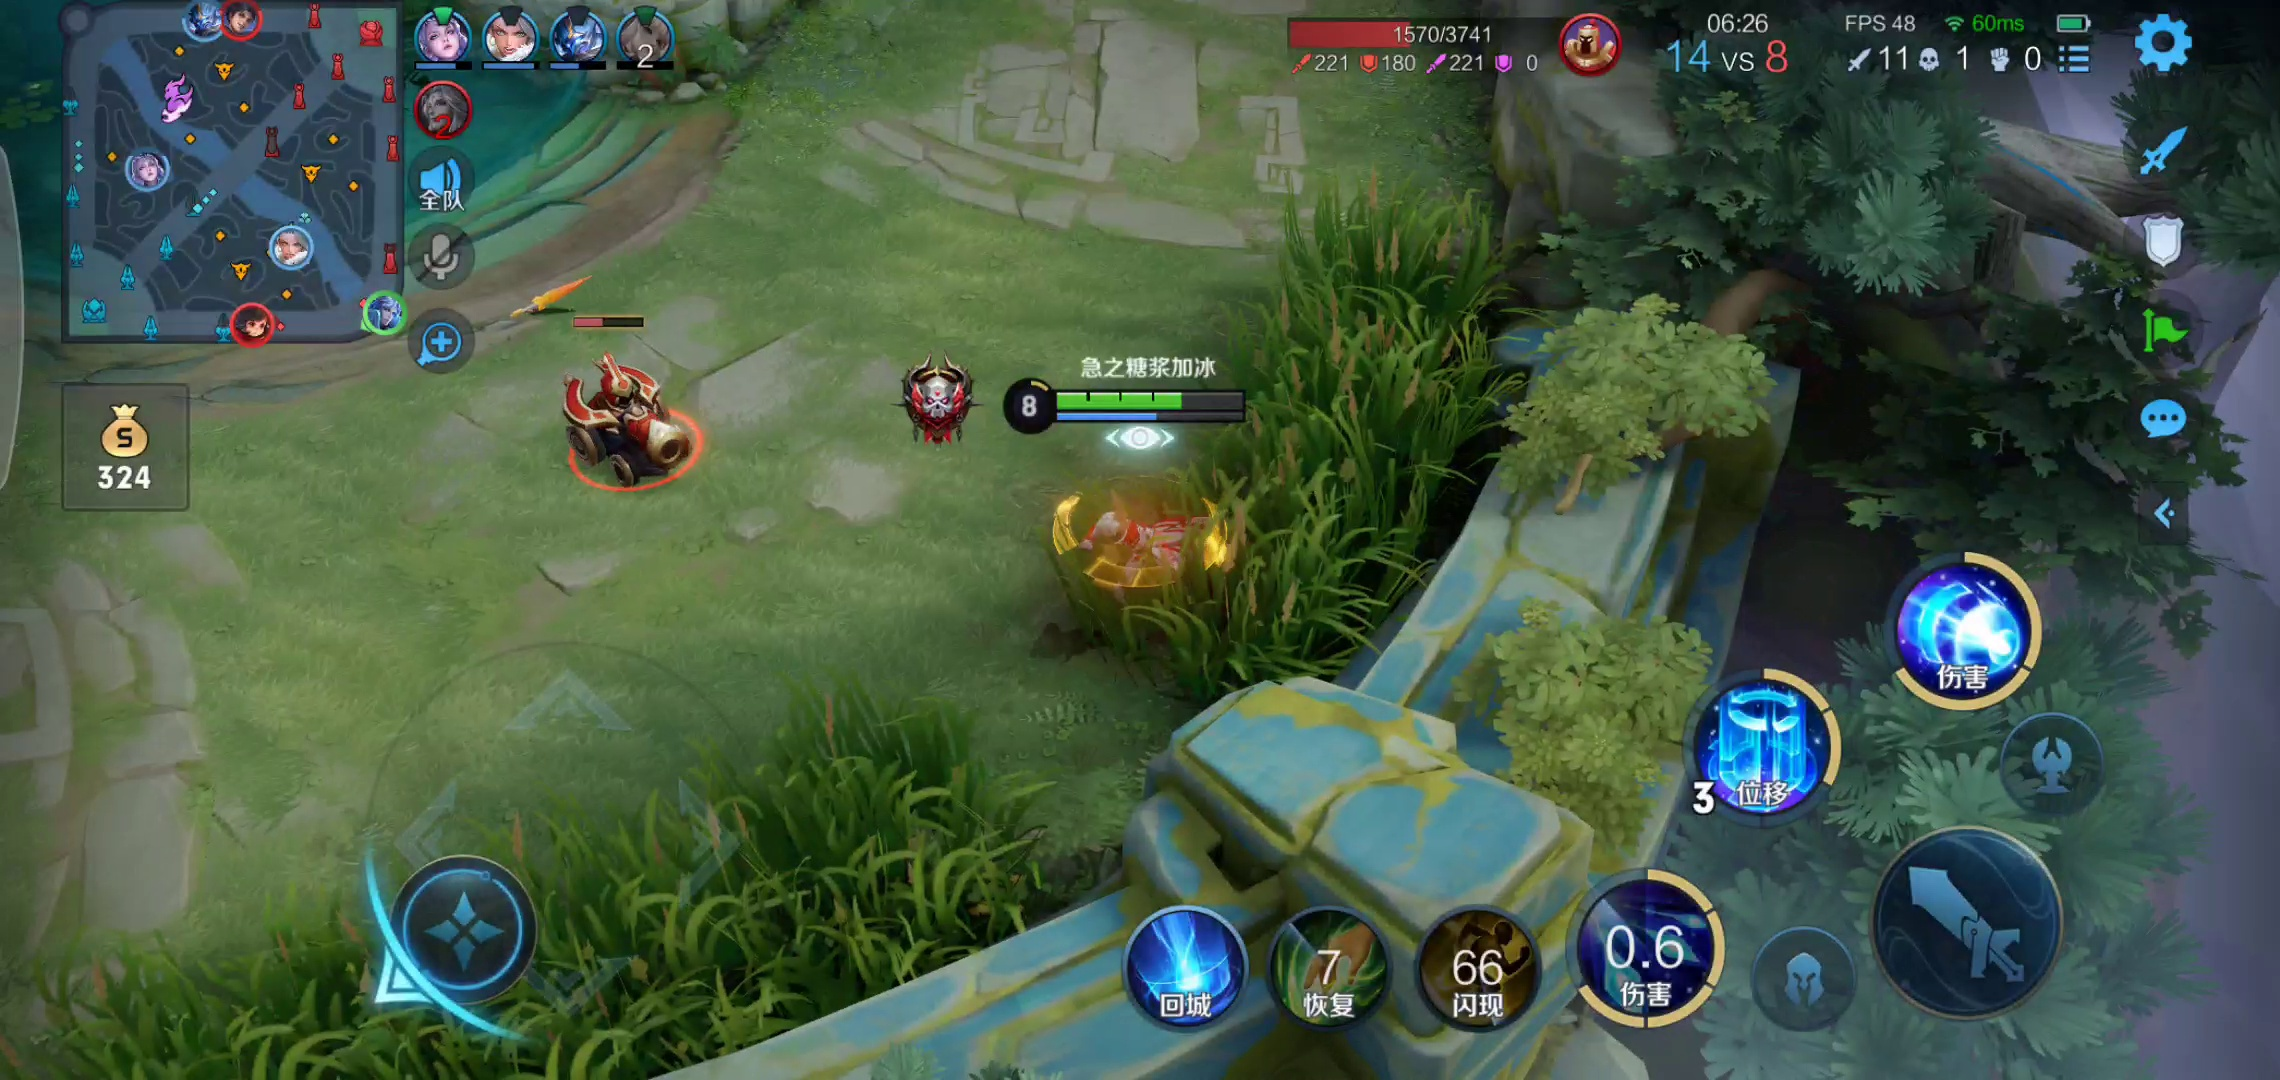grass: (60, 717, 1099, 1079), (1171, 174, 1495, 690)
hero: (1032, 462, 1210, 625)
soldier: (523, 359, 737, 488)
